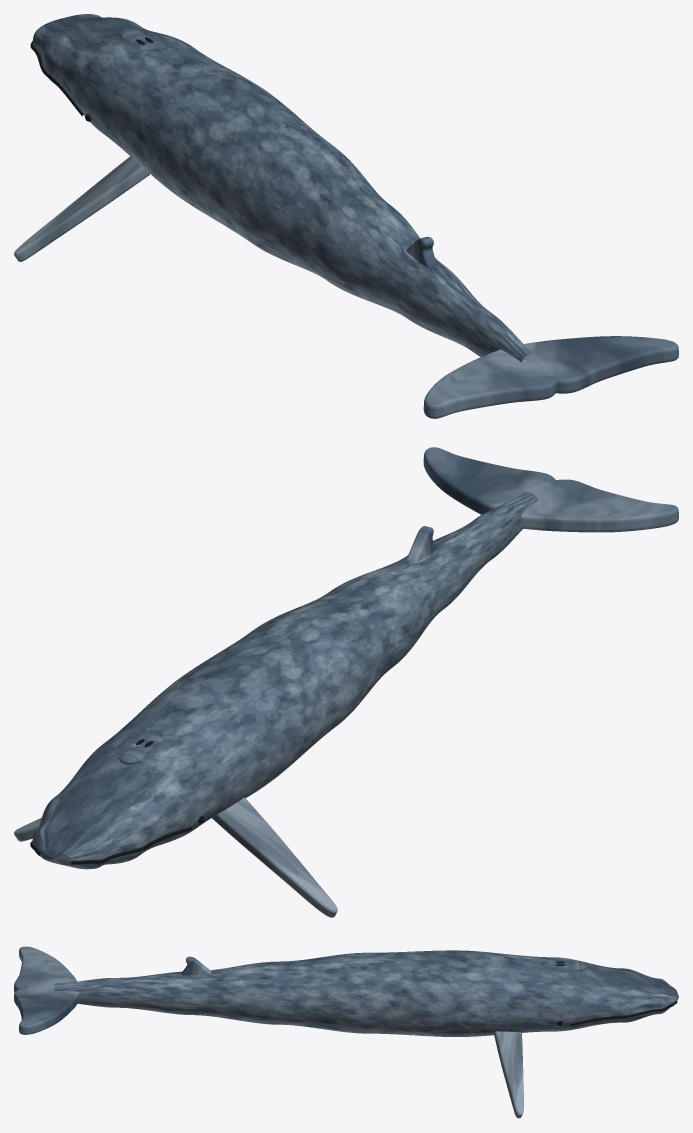
File: bluewhale.glb
3 views of the same model, one above another, from view 1: azimuth 30°, elevation 25°; view 2: azimuth 150°, elevation 25°; view 3: azimuth 270°, elevation 25° (orthographic). The views are drawn at different scales.
Visible parts, largest first — view 1: bluewhale_body; view 2: bluewhale_body, bluewhale_details; view 3: bluewhale_body, bluewhale_details.
Part boxes in pixels (x1,y1,x2,y2): bluewhale_body: (14,14,678,418); bluewhale_body: (14,447,678,917); bluewhale_details: (30,739,204,864); bluewhale_body: (14,946,678,1118); bluewhale_details: (555,961,677,1025).
Size of the model in its own units: 9.01 by 4.57 by 24.48.
Materials: 2 (1 with a texture image).
